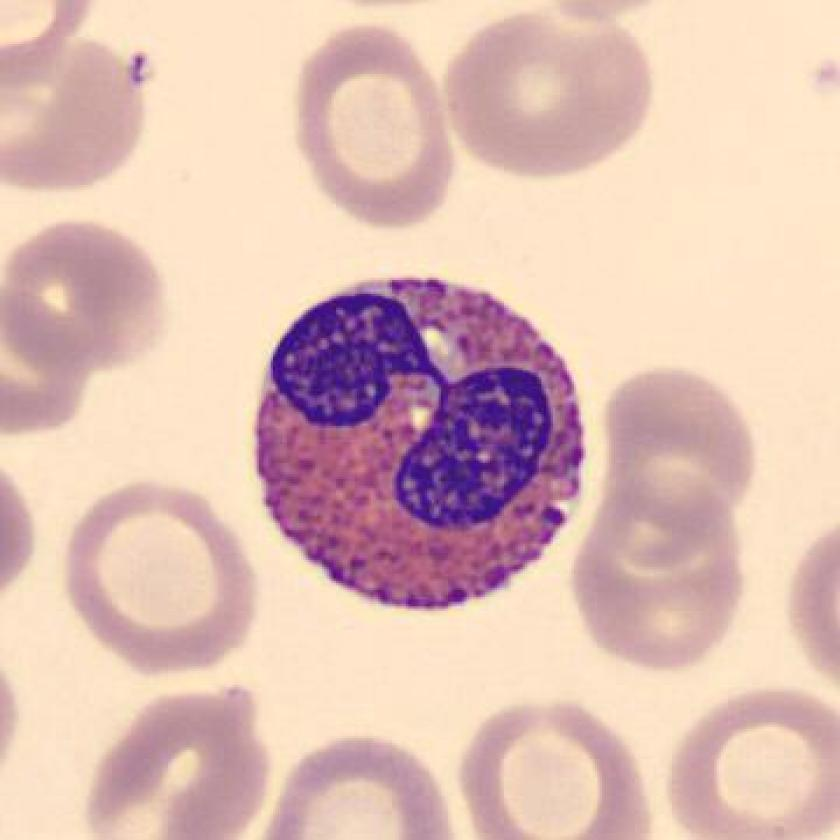eosinophil: (237, 263, 598, 628)
